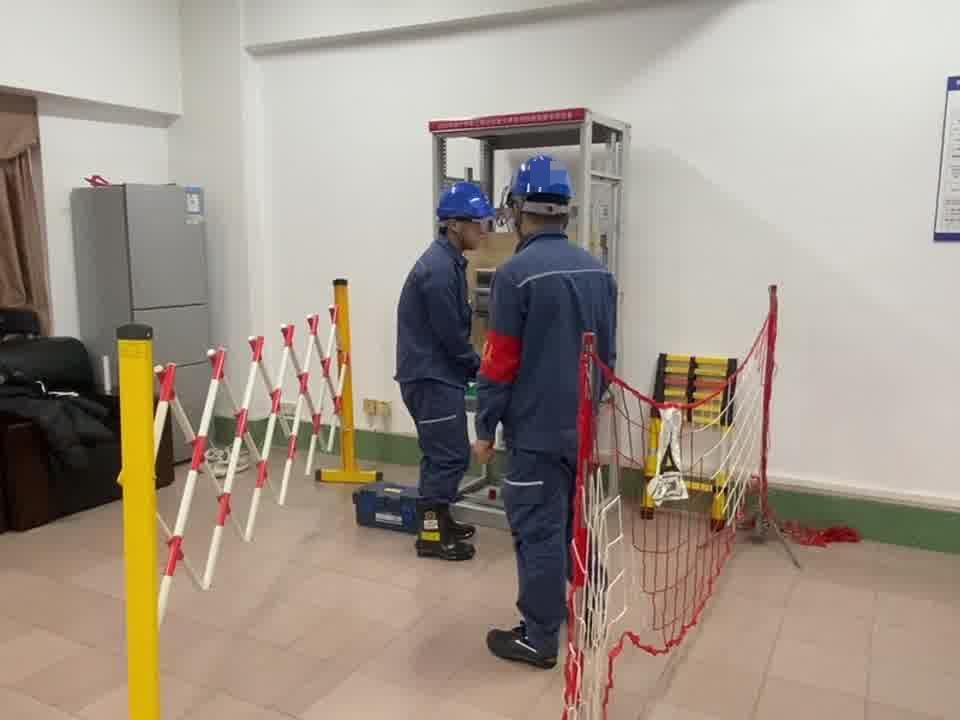halt: (510, 156, 578, 235), (436, 185, 499, 249)
